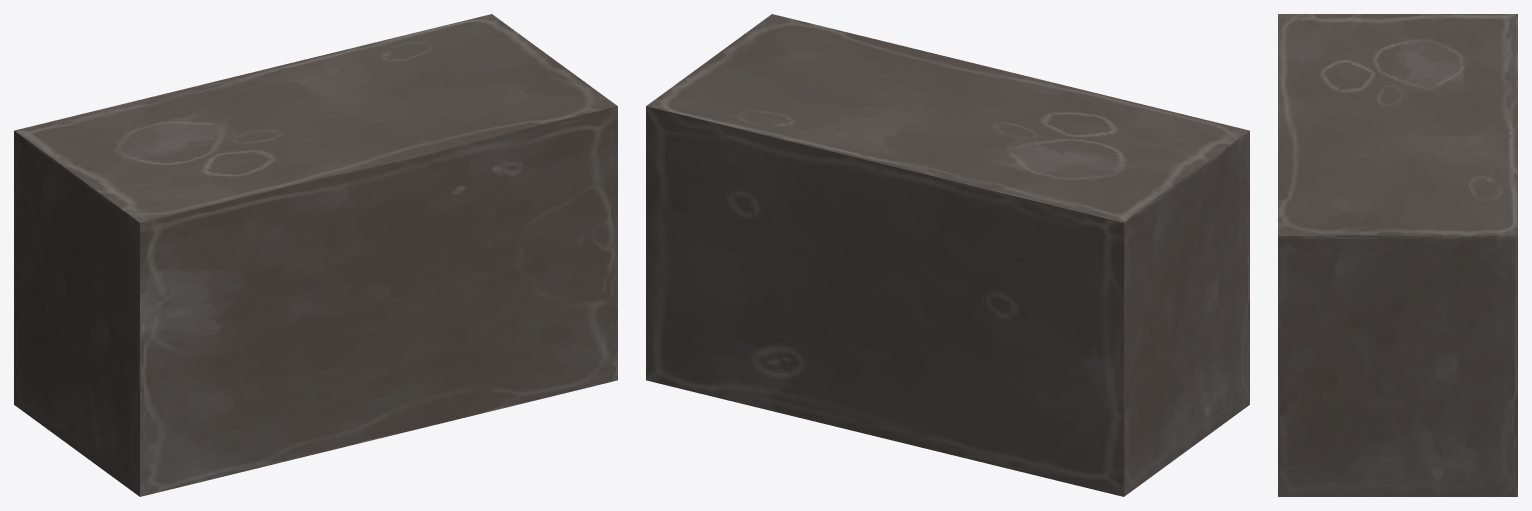
Rendered from StoneBrick_Dark_2.fbx.
3 views of the same model, side by side, from view 1: azimuth 30°, elevation 25°; view 2: azimuth 150°, elevation 25°; view 3: azimuth 270°, elevation 25° (orthographic). The views are drawn at different scales.
Parts seen in each view (by area): view 1: pCube24602; view 2: pCube24602; view 3: pCube24602.
Part boxes in pixels (x1,y1,x2,y2): pCube24602: (14,14,617,496); pCube24602: (646,14,1249,496); pCube24602: (1278,14,1517,496).
Bounding box in the file's own units: 0.7388 × 0.4051 × 0.3373.
